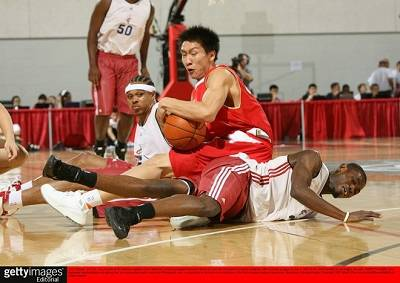10+: (1, 1, 400, 250)
down: (40, 146, 382, 240)
